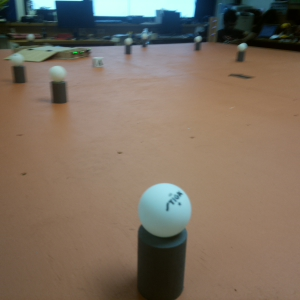blockA: (93, 57, 106, 69)
corner: (207, 16, 217, 44)
obstacle: (126, 166, 205, 300), (46, 65, 72, 106), (9, 53, 29, 88), (233, 39, 249, 65), (121, 36, 134, 55), (137, 32, 150, 51), (192, 35, 203, 53), (27, 34, 33, 45)
side: (63, 49, 90, 60)
slope: (17, 48, 55, 54)
start: (227, 68, 256, 86)
